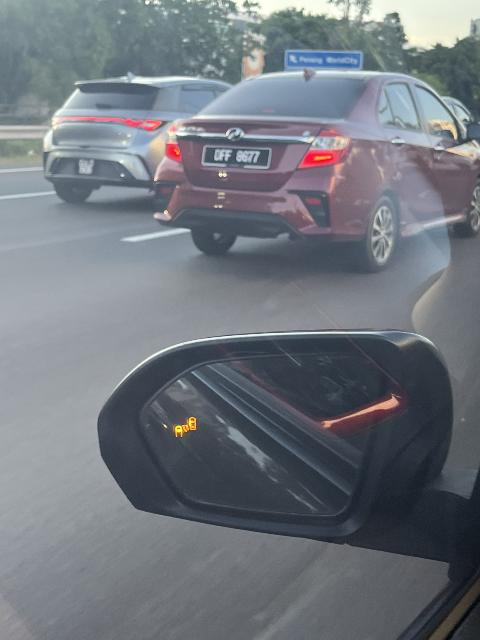License_Plate: (202, 139, 279, 175), (71, 154, 101, 180)
car: (145, 66, 480, 273), (38, 69, 245, 194)
